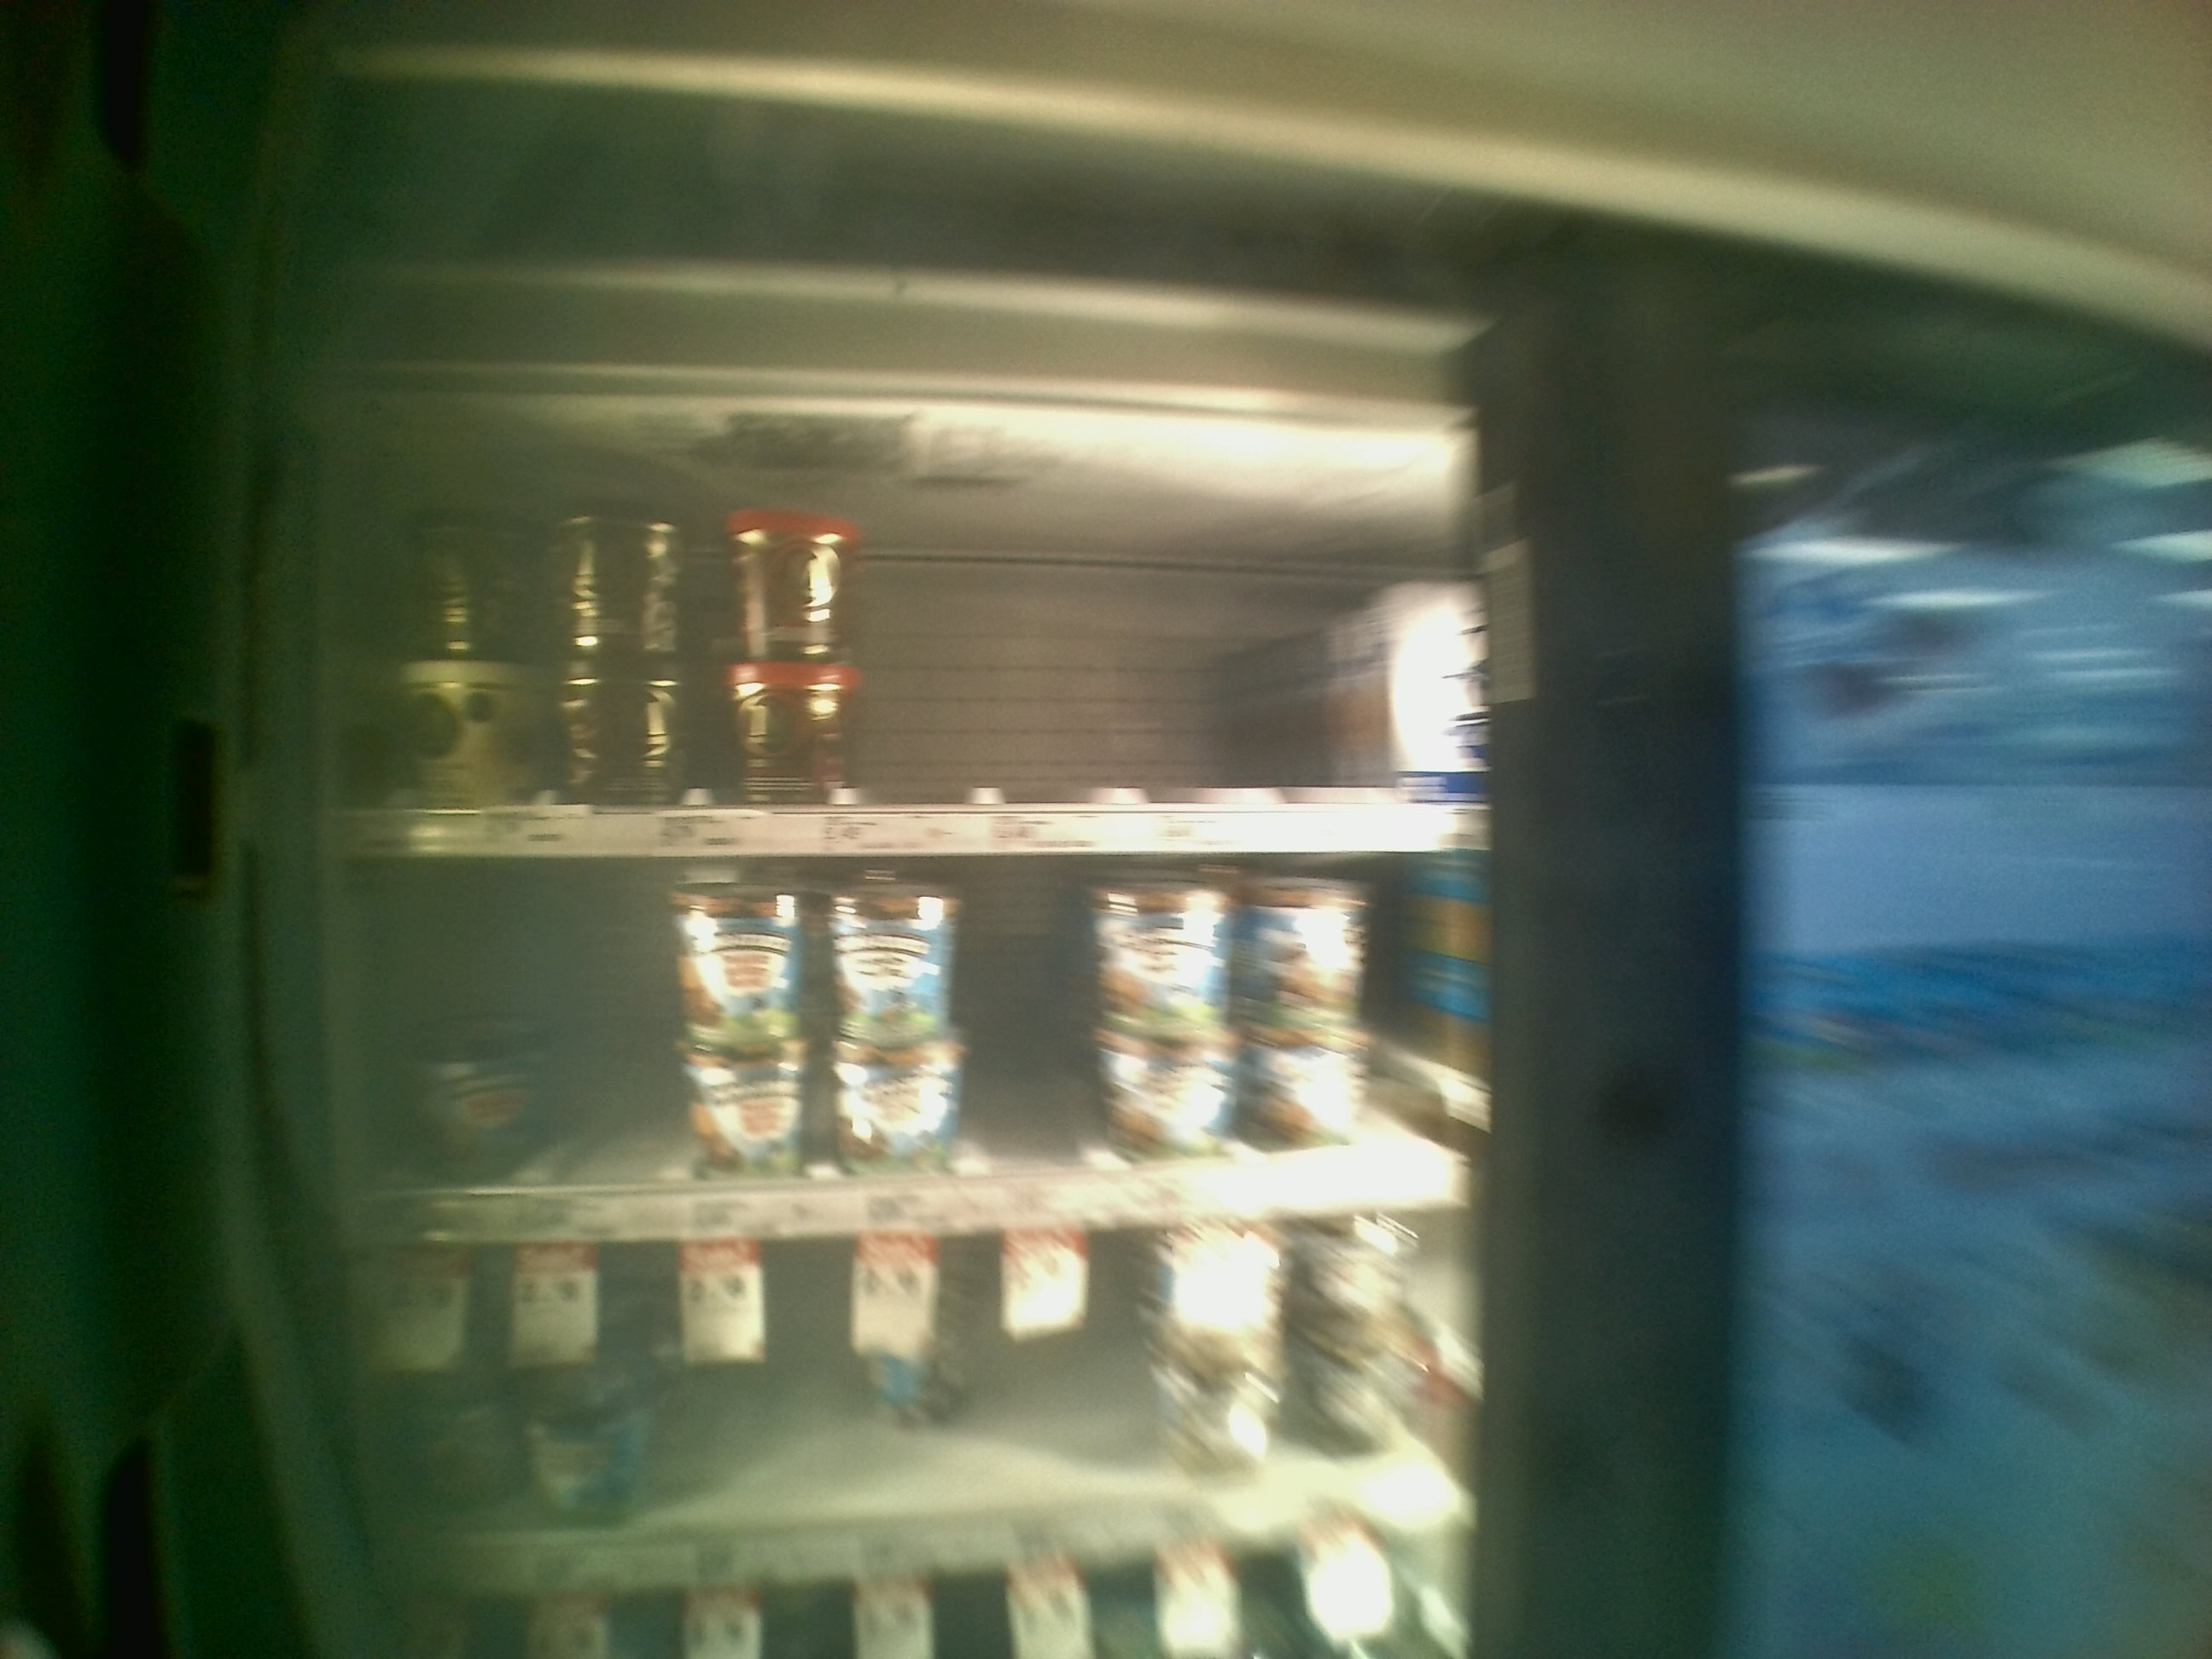shelf: (324, 401, 1480, 854), (315, 857, 1496, 1239)
